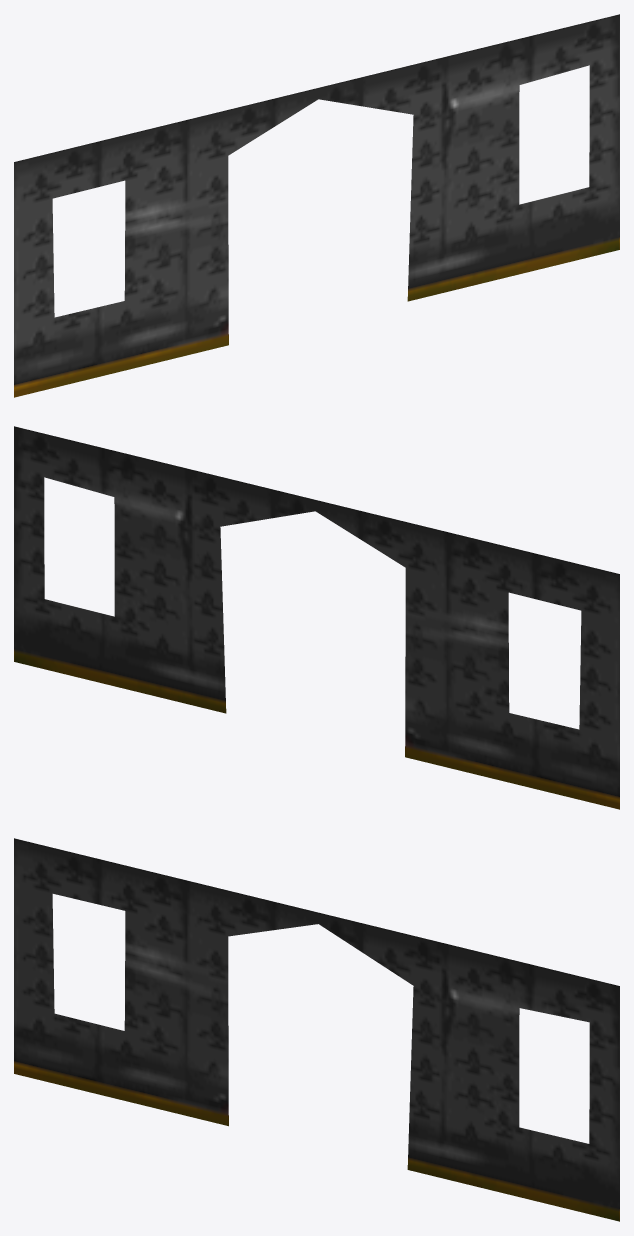
File: W_AI1_fOf [Dunkelgrau]_720.glb
The picture shows the model from 3 angles, top to bottom: view 1: azimuth 30°, elevation 25°; view 2: azimuth 150°, elevation 25°; view 3: azimuth 330°, elevation 25°; orthographic projection.
Visible parts, largest first — view 1: polySurfaceShape908; view 2: polySurfaceShape908; view 3: polySurfaceShape908.
Boxes of the visible parts, box(x1,y1,x2,y2) form: polySurfaceShape908: box(14, 14, 619, 397); polySurfaceShape908: box(14, 426, 619, 809); polySurfaceShape908: box(14, 838, 619, 1221).
Bounding box in the file's own units: 0.9385 × 0.3486 × 1.52e-08.
Materials: 1 (1 with a texture image).
